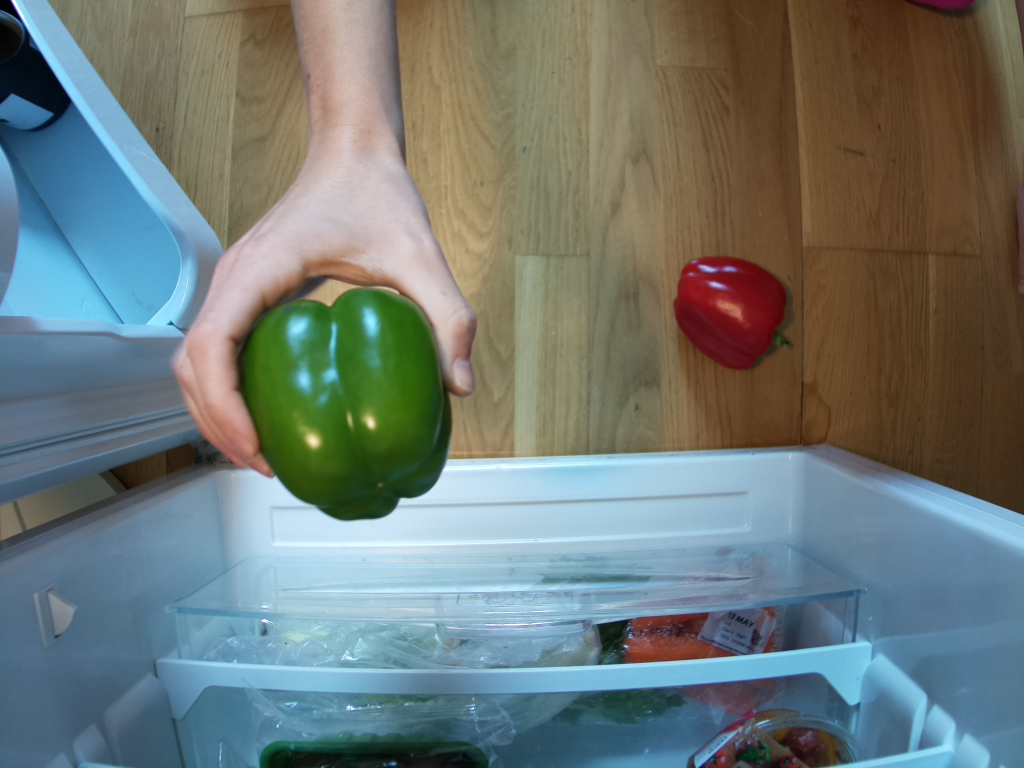pepper: (236, 283, 454, 527), (671, 257, 800, 370)
